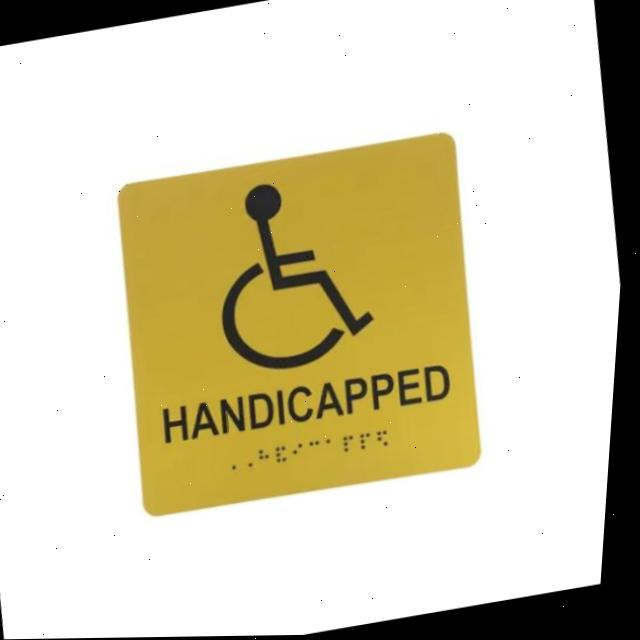symbol_of_access: (201, 159, 398, 385)
